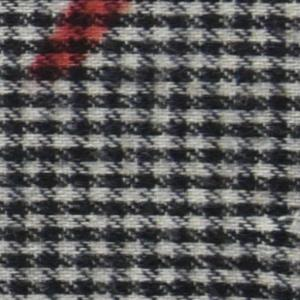Stain: (25, 1, 137, 85)
